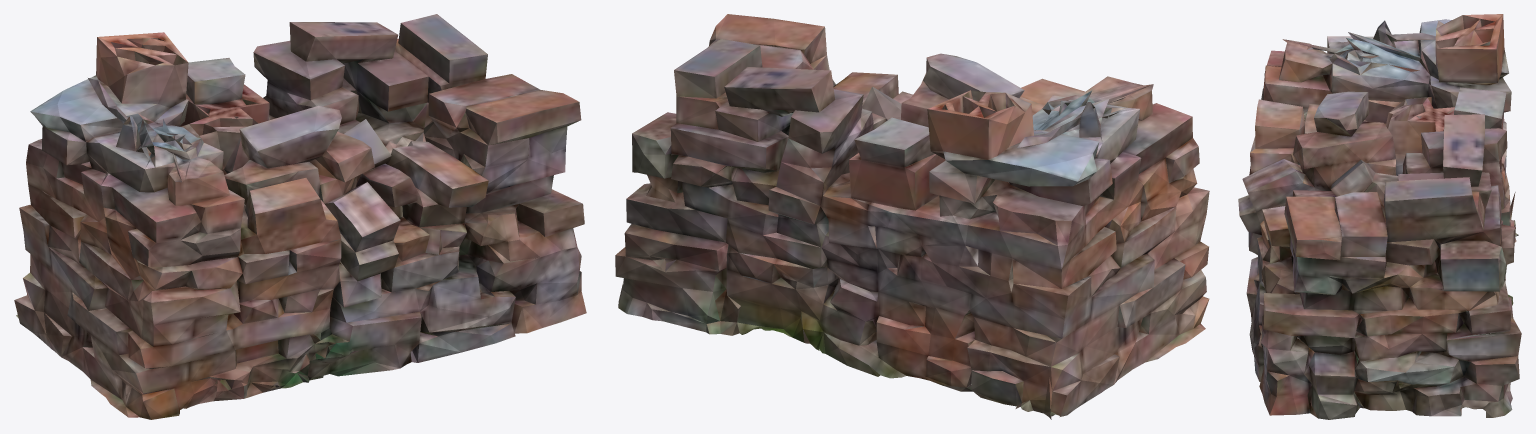
The model's file is brick-stack.glb.
3 views of the same model, side by side, from view 1: azimuth 30°, elevation 25°; view 2: azimuth 150°, elevation 25°; view 3: azimuth 270°, elevation 25° (orthographic). The views are drawn at different scales.
Parts seen in each view (by area): view 1: Stack of Bricks; view 2: Stack of Bricks; view 3: Stack of Bricks.
Part boxes in pixels (x1,y1,x2,y2): Stack of Bricks: (14,14,586,419); Stack of Bricks: (615,14,1209,419); Stack of Bricks: (1238,14,1521,419).
Size of the model in its own units: 3.41 by 1.91 by 2.01.
1 material, 1 textured.
